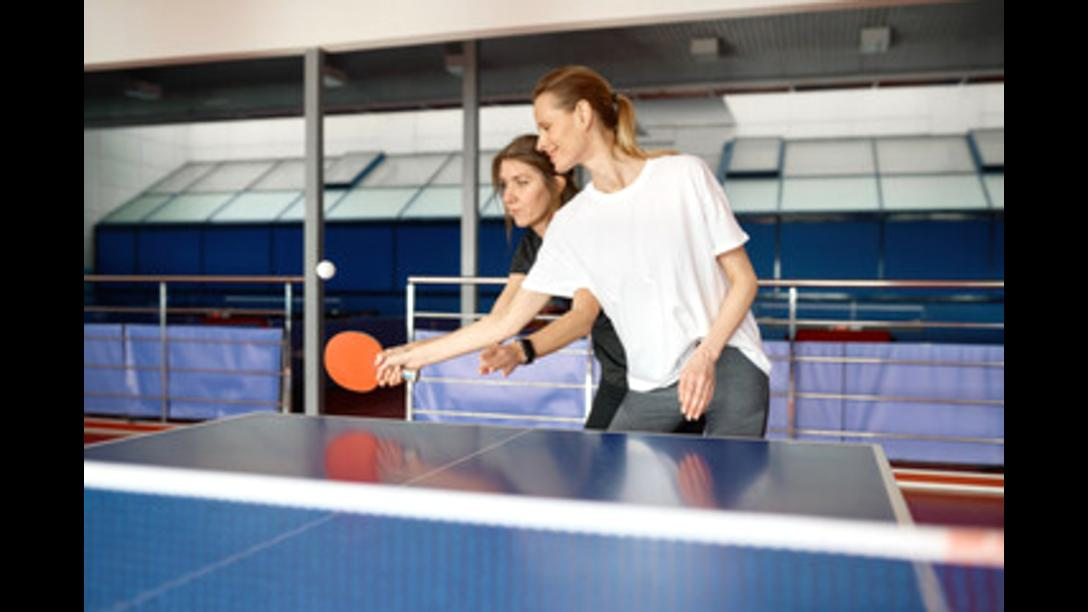Table-Tennis-Ball: (318, 260, 334, 278)
